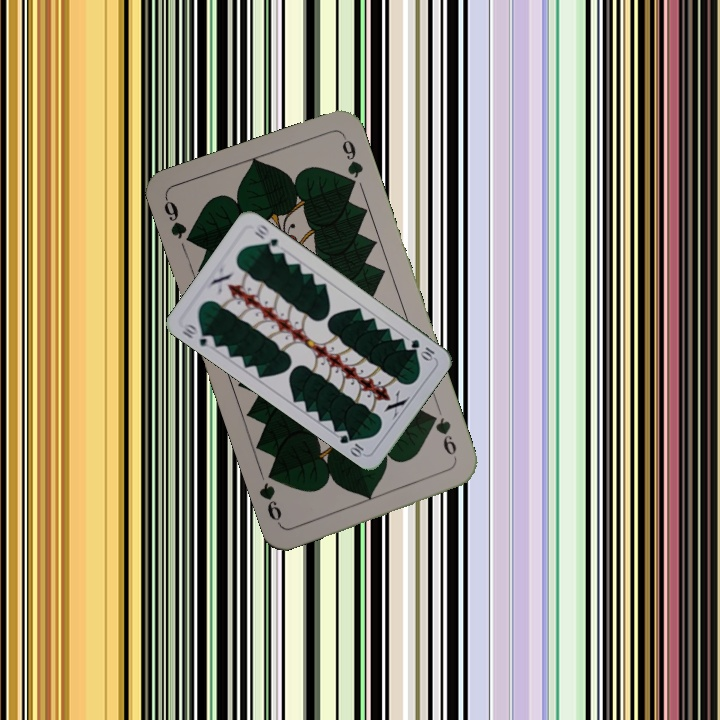G10: (178, 319, 217, 351), (407, 335, 437, 363)
G9: (159, 194, 198, 248), (426, 410, 460, 465)
